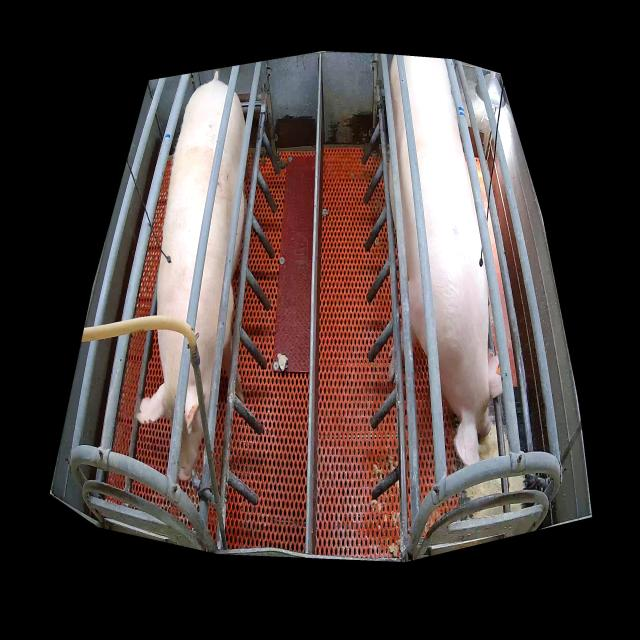pig: (388, 58, 503, 465), (138, 81, 245, 481)
